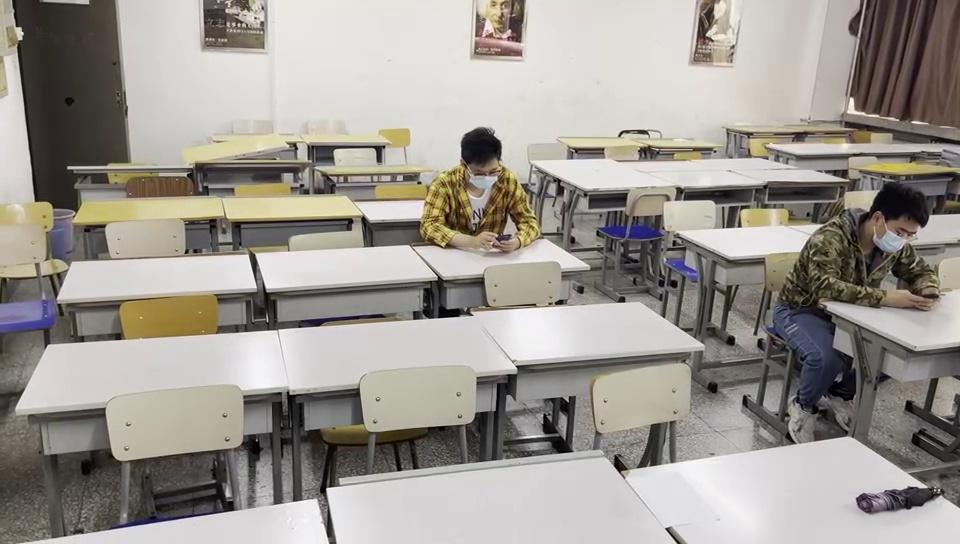phone: (823, 183, 942, 307), (421, 129, 538, 251)
